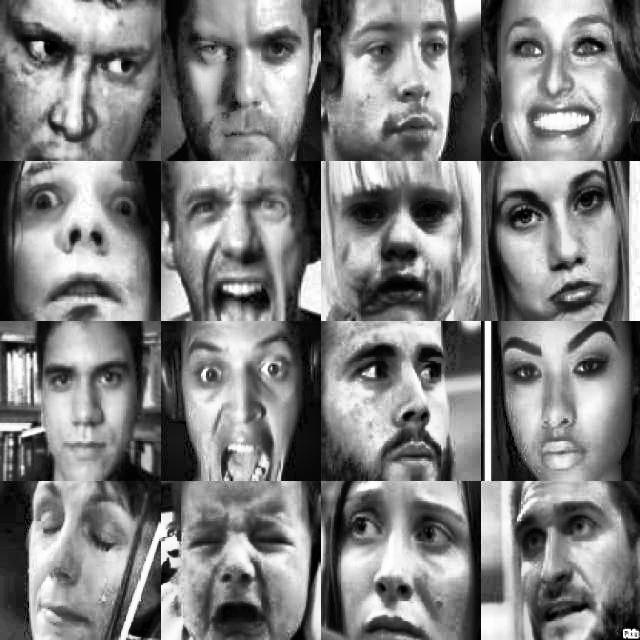angry: (21, 6, 155, 160), (177, 174, 297, 316), (514, 496, 628, 636), (187, 19, 303, 153)
fear: (18, 175, 152, 309), (348, 333, 472, 475), (188, 333, 306, 482)
happy: (495, 10, 623, 153)
neutral: (335, 16, 463, 158), (330, 168, 461, 292), (503, 329, 621, 463), (40, 339, 144, 467)
sad: (494, 165, 625, 316), (181, 490, 310, 639), (25, 491, 147, 639), (346, 491, 468, 634)
